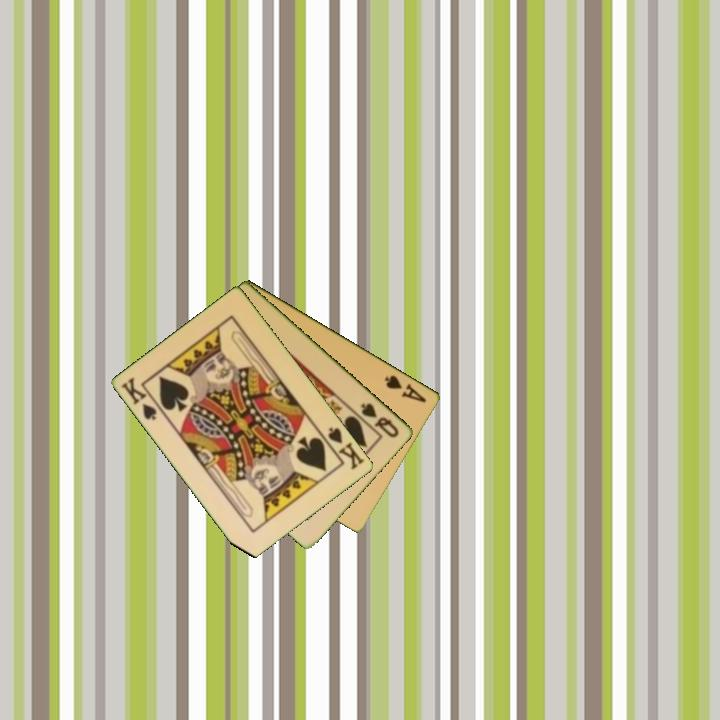As: (381, 371, 430, 406)
Ks: (325, 424, 368, 473), (118, 373, 160, 423)
Qs: (357, 399, 402, 441)
